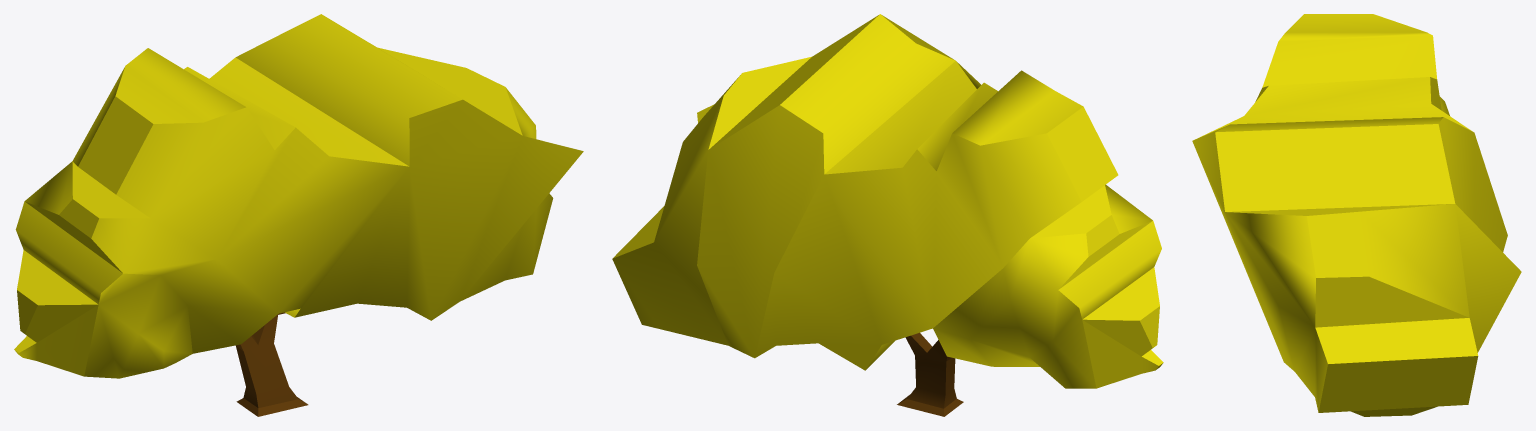
Rendered from Kowhai_Tree_Bushy.fbx.
3 views of the same model, side by side, from view 1: azimuth 30°, elevation 25°; view 2: azimuth 150°, elevation 25°; view 3: azimuth 270°, elevation 25° (orthographic). The views are drawn at different scales.
Visible parts, largest first — view 1: pCube2, pCube1; view 2: pCube2, pCube1; view 3: pCube2.
Boxes of the visible parts, box(x1,y1,x2,y2) form: pCube2: box(14, 14, 583, 378); pCube1: box(235, 312, 308, 416); pCube2: box(612, 14, 1163, 388); pCube1: box(897, 332, 963, 416); pCube2: box(1192, 14, 1521, 416).
Bounding box in the file's own units: 23.28 × 14.25 × 13.94.
